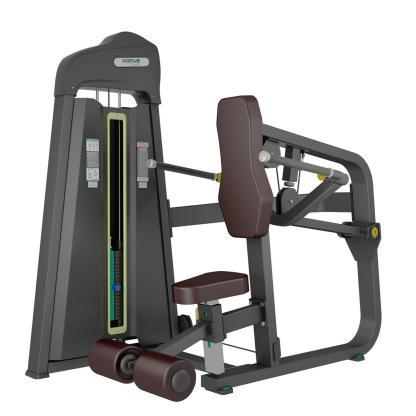seated dip machine: (23, 30, 386, 400)
